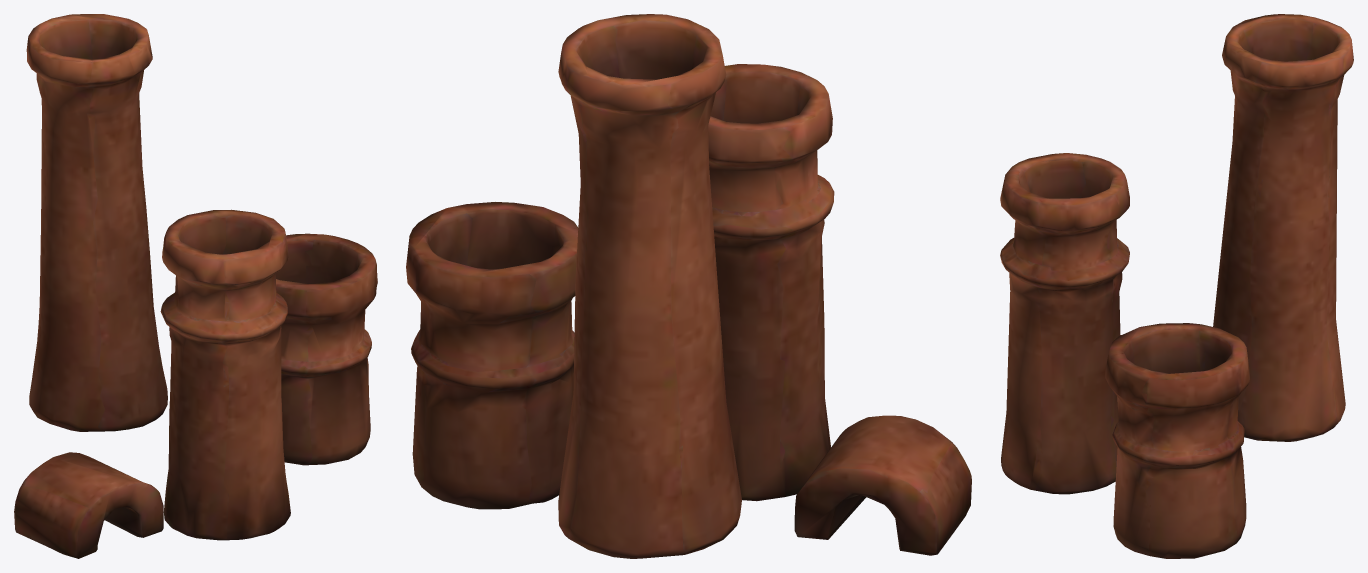
Rendered from plain-terracotta-chimney-stack-v001.glb.
3 views of the same model, side by side, from view 1: azimuth 30°, elevation 25°; view 2: azimuth 150°, elevation 25°; view 3: azimuth 270°, elevation 25° (orthographic). The views are drawn at different scales.
Parts seen in each view (by area): view 1: plain-terracotta-chimney-stack; view 2: plain-terracotta-chimney-stack; view 3: plain-terracotta-chimney-stack.
Boxes of the visible parts, x1,y1,x2,y2 form: plain-terracotta-chimney-stack: (14, 14, 377, 558); plain-terracotta-chimney-stack: (406, 14, 971, 558); plain-terracotta-chimney-stack: (1000, 14, 1353, 558).
Bounding box in the file's own units: 1.29 × 1.34 × 1.03.
1 material, 1 textured.
